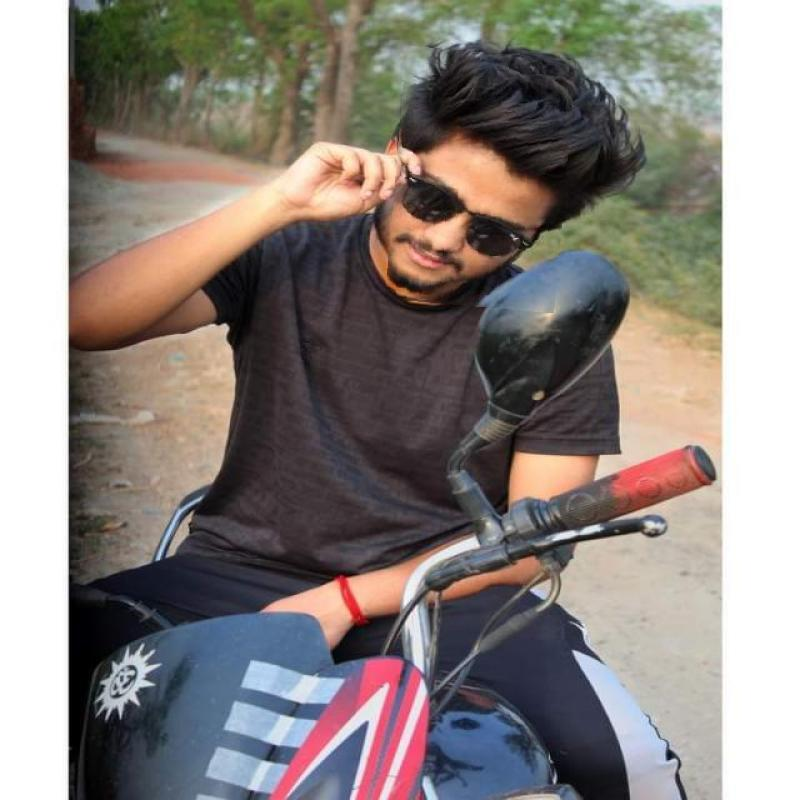nohelmet: (391, 50, 571, 310)
